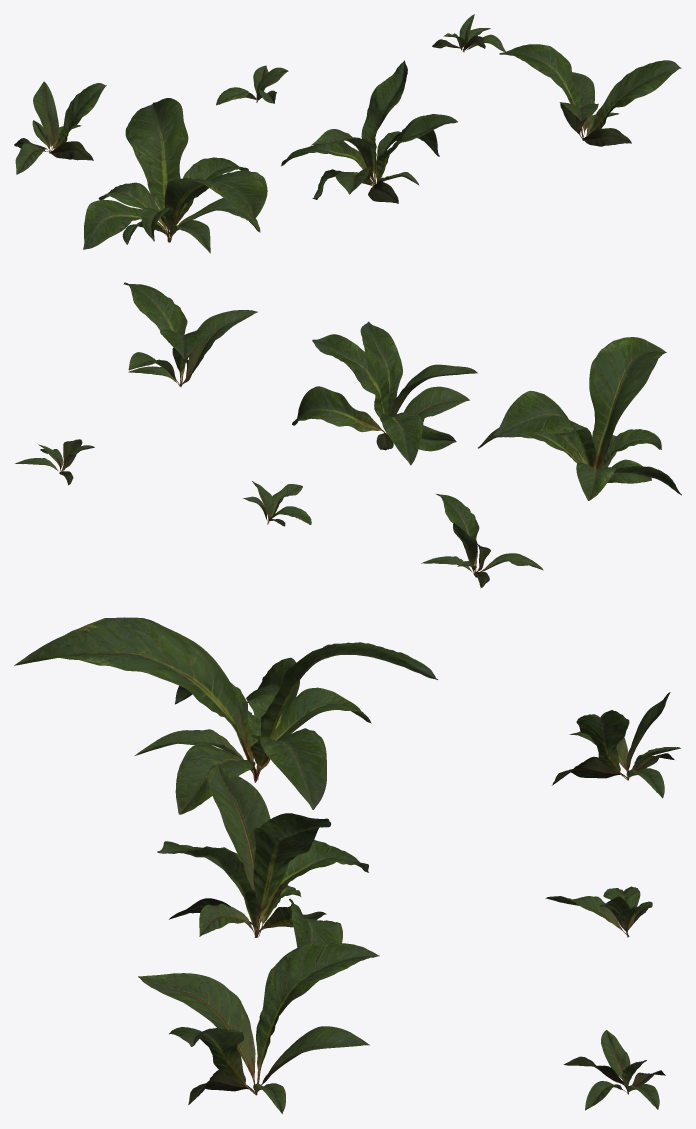
File: anthurium_botany_01.gltf
3 views of the same model, one above another, from view 1: azimuth 30°, elevation 25°; view 2: azimuth 150°, elevation 25°; view 3: azimuth 270°, elevation 25° (orthographic). The views are drawn at different scales.
Parts seen in each view (by area): view 1: anthurium_botany_01_a, anthurium_botany_01_b, anthurium_botany_01_c, anthurium_botany_04_d, anthurium_botany_05_e, anthurium_botany_06_f; view 2: anthurium_botany_01_a, anthurium_botany_01_b, anthurium_botany_01_c, anthurium_botany_04_d, anthurium_botany_05_e, anthurium_botany_06_f; view 3: anthurium_botany_01_a, anthurium_botany_01_b, anthurium_botany_01_c, anthurium_botany_04_d, anthurium_botany_06_f, anthurium_botany_05_e.
Boxes of the visible parts, bbox=[...] form: anthurium_botany_01_a: bbox=[83, 98, 267, 253]; anthurium_botany_01_b: bbox=[281, 60, 457, 203]; anthurium_botany_01_c: bbox=[499, 44, 681, 146]; anthurium_botany_04_d: bbox=[14, 81, 106, 174]; anthurium_botany_05_e: bbox=[216, 65, 288, 105]; anthurium_botany_06_f: bbox=[432, 14, 505, 52]; anthurium_botany_01_a: bbox=[478, 337, 681, 500]; anthurium_botany_01_b: bbox=[292, 321, 477, 465]; anthurium_botany_01_c: bbox=[123, 282, 257, 386]; anthurium_botany_04_d: bbox=[421, 494, 543, 588]; anthurium_botany_05_e: bbox=[243, 481, 311, 526]; anthurium_botany_06_f: bbox=[15, 439, 94, 485]; anthurium_botany_01_a: bbox=[14, 617, 437, 814]; anthurium_botany_01_b: bbox=[157, 763, 368, 981]; anthurium_botany_01_c: bbox=[138, 942, 379, 1113]; anthurium_botany_04_d: bbox=[552, 692, 680, 798]; anthurium_botany_06_f: bbox=[563, 1030, 665, 1110]; anthurium_botany_05_e: bbox=[545, 886, 652, 937].
Bounding box in the file's own units: 2.8 × 0.4997 × 1.8.
Materials: 1 (1 with a texture image).
